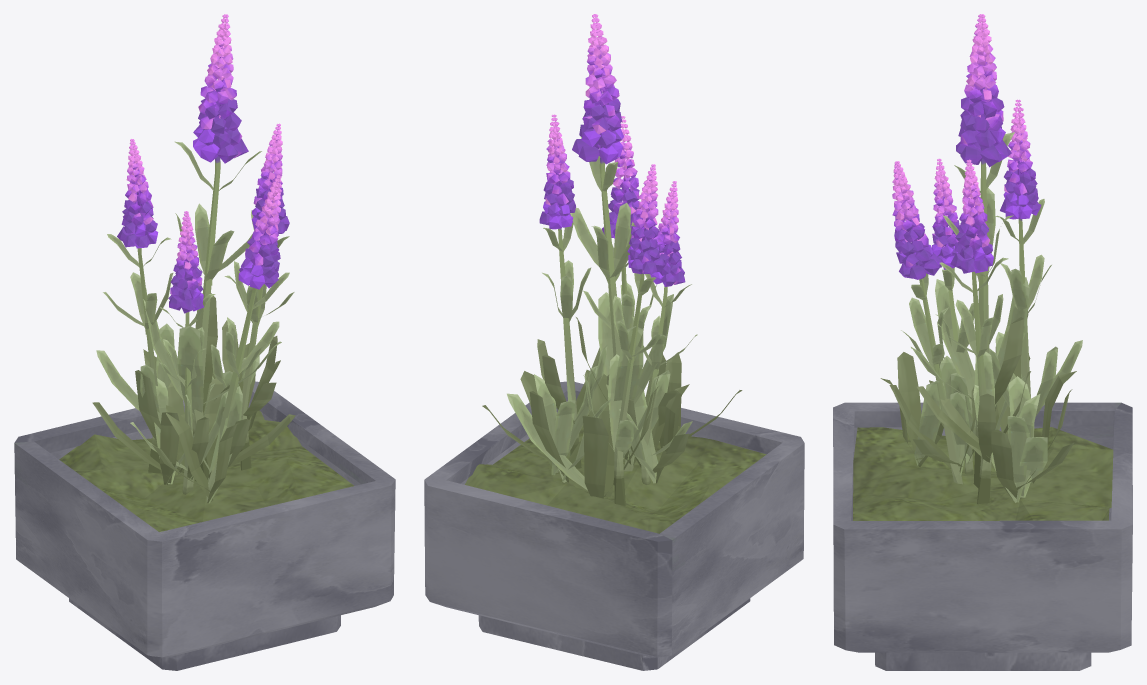
The model's file is lavender.glb.
The picture shows the model from 3 angles, left to right: view 1: azimuth 30°, elevation 25°; view 2: azimuth 150°, elevation 25°; view 3: azimuth 270°, elevation 25°; orthographic projection. The views are drawn at different scales.
Visible parts, largest first — view 1: Cube, Cube.001, Plane.008, Cylinder, Cylinder.004, Plane.055, Plane.060, Plane.069, Plane.009, Cylinder.001, Cylinder.002, Plane.010 (+10 smaller); view 2: Cube, Cube.001, Plane.068, Cylinder.002, Cylinder, Plane.070, Plane.067, Cylinder.001, Plane.010, Plane.064, Plane.053, Plane.011 (+10 smaller); view 3: Cube, Cube.001, Plane.008, Cylinder.001, Plane.058, Plane.009, Cylinder, Cylinder.004, Plane.063, Plane.052, Plane.016, Plane.057 (+20 smaller).
Part boxes in pixels (x1,y1,x2,y2): Cube: (14, 381, 395, 670); Cube.001: (59, 407, 353, 531); Plane.008: (177, 326, 203, 420); Cylinder: (192, 38, 223, 481); Cylinder.004: (208, 193, 274, 480); Plane.055: (166, 405, 213, 501); Plane.060: (160, 412, 179, 484); Plane.069: (135, 370, 183, 472); Plane.009: (195, 293, 217, 413); Cylinder.001: (240, 141, 277, 470); Cylinder.002: (134, 156, 160, 473); Plane.010: (143, 299, 193, 414); Cube: (424, 381, 804, 670); Cube.001: (465, 414, 766, 533); Plane.068: (582, 415, 608, 498); Cylinder.002: (614, 181, 652, 505); Cylinder: (595, 37, 623, 485); Plane.070: (507, 393, 587, 490); Plane.067: (587, 374, 614, 497); Cylinder.001: (553, 133, 581, 468); Plane.010: (614, 326, 643, 400); Plane.064: (551, 400, 575, 475); Plane.053: (529, 391, 568, 482); Plane.011: (598, 292, 613, 389); Cube: (833, 402, 1132, 670); Cube.001: (853, 427, 1113, 520); Plane.008: (935, 279, 974, 397); Cylinder.001: (970, 177, 991, 504); Plane.058: (897, 352, 922, 459); Plane.009: (994, 317, 1024, 404); Cylinder: (973, 38, 990, 487); Cylinder.004: (901, 179, 962, 484); Plane.063: (991, 429, 1017, 498); Plane.052: (1007, 415, 1029, 497); Plane.016: (977, 393, 995, 462); Plane.057: (914, 380, 943, 465).
Size of the model in its own units: 1.69 by 3.87 by 1.69.
1 material, 1 textured.
